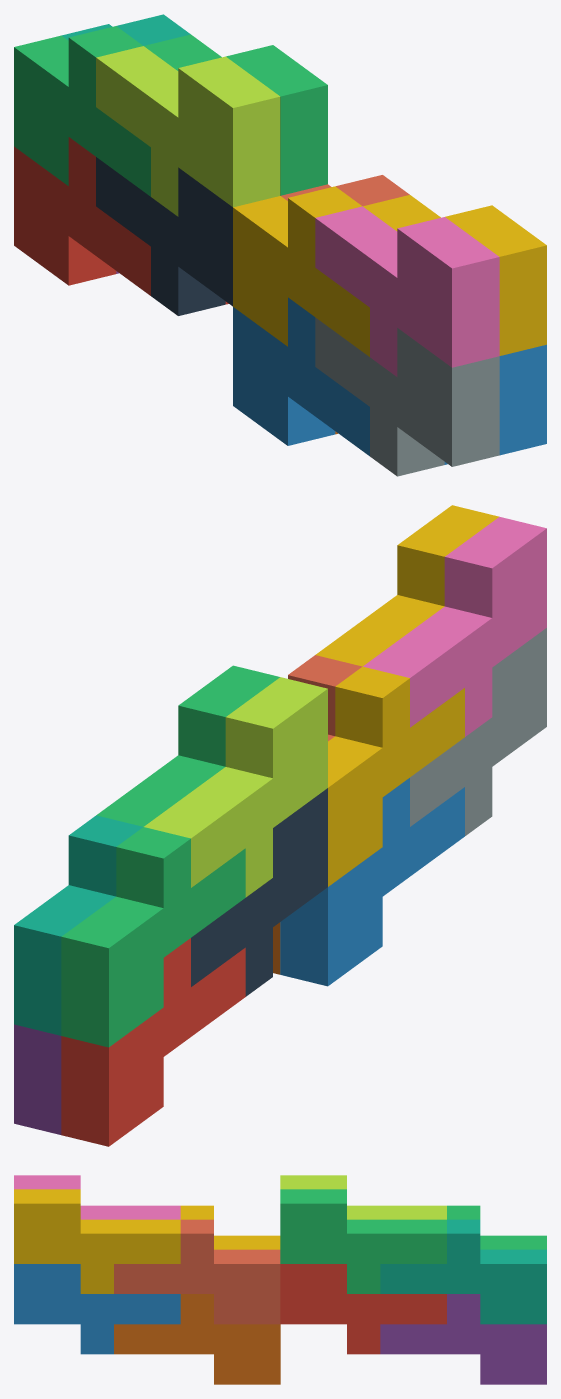
Rendered from tiling.obj.
3 views of the same model, one above another, from view 1: azimuth 30°, elevation 25°; view 2: azimuth 150°, elevation 25°; view 3: azimuth 270°, elevation 25° (orthographic). The views are drawn at different scales.
Visible parts, largest first — view 1: copy_2_domain_3, copy_2_domain_4, copy_2_domain_2, copy_1_domain_4, copy_1_domain_3, copy_1_domain_2, copy_1_domain_1, copy_2_domain_1, copy_2_domain_7, copy_2_domain_8, copy_2_domain_6, copy_1_domain_7 (+1 smaller); view 2: copy_1_domain_3, copy_2_domain_3, copy_2_domain_4, copy_1_domain_4, copy_1_domain_1, copy_1_domain_2, copy_1_domain_7, copy_2_domain_2, copy_2_domain_1, copy_2_domain_7, copy_2_domain_8, copy_1_domain_5 (+1 smaller); view 3: copy_2_domain_7, copy_2_domain_8, copy_1_domain_8, copy_1_domain_7, copy_1_domain_5, copy_1_domain_6, copy_2_domain_5, copy_2_domain_6, copy_2_domain_4, copy_2_domain_3, copy_1_domain_3, copy_1_domain_4.
Part boxes in pixels (x1,y1,x2,y2): copy_2_domain_3: (96, 46, 280, 216); copy_2_domain_4: (315, 206, 499, 376); copy_2_domain_2: (315, 317, 499, 476); copy_1_domain_4: (233, 186, 369, 356); copy_1_domain_3: (14, 26, 150, 196); copy_1_domain_2: (233, 297, 369, 456); copy_1_domain_1: (14, 137, 150, 295); copy_2_domain_1: (96, 157, 232, 315); copy_2_domain_7: (144, 34, 327, 195); copy_2_domain_8: (363, 195, 546, 355); copy_2_domain_6: (444, 344, 546, 464); copy_1_domain_7: (61, 14, 190, 45); copy_1_domain_3: (61, 827, 245, 1047); copy_2_domain_3: (144, 677, 327, 897); copy_2_domain_4: (363, 516, 546, 736); copy_1_domain_4: (328, 666, 464, 886); copy_1_domain_1: (61, 938, 245, 1146); copy_1_domain_2: (280, 778, 464, 986); copy_1_domain_7: (14, 815, 142, 1035); copy_2_domain_2: (410, 628, 546, 835); copy_2_domain_1: (191, 788, 327, 996); copy_2_domain_7: (96, 665, 279, 826); copy_2_domain_8: (315, 505, 498, 666); copy_1_domain_5: (14, 1024, 61, 1134); copy_2_domain_7: (280, 1189, 446, 1293); copy_2_domain_8: (14, 1189, 180, 1293); copy_1_domain_8: (114, 1219, 280, 1324); copy_1_domain_7: (380, 1219, 546, 1324); copy_1_domain_5: (380, 1294, 546, 1384); copy_1_domain_6: (114, 1294, 280, 1384); copy_2_domain_5: (280, 1264, 446, 1354); copy_2_domain_6: (14, 1264, 180, 1354); copy_2_domain_4: (14, 1175, 180, 1219); copy_2_domain_3: (280, 1175, 446, 1219); copy_1_domain_3: (447, 1205, 546, 1249); copy_1_domain_4: (180, 1205, 280, 1249).
Size of the model in its own units: 2 by 6 by 16.
